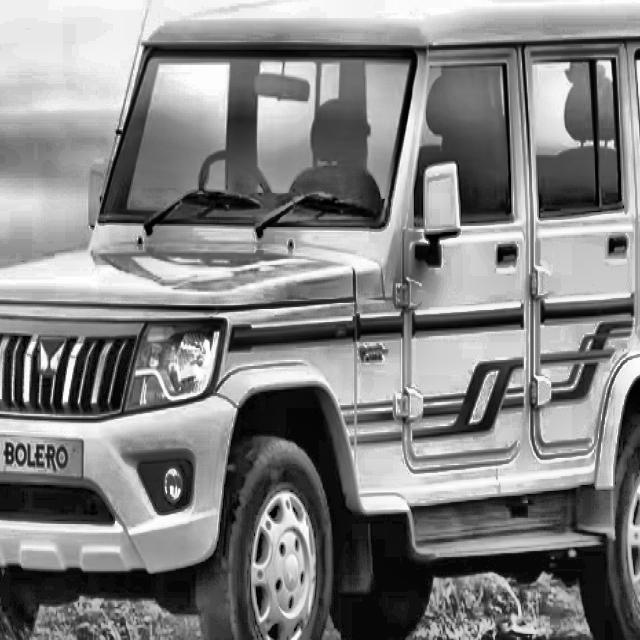light_vehicle: (0, 19, 640, 640)
